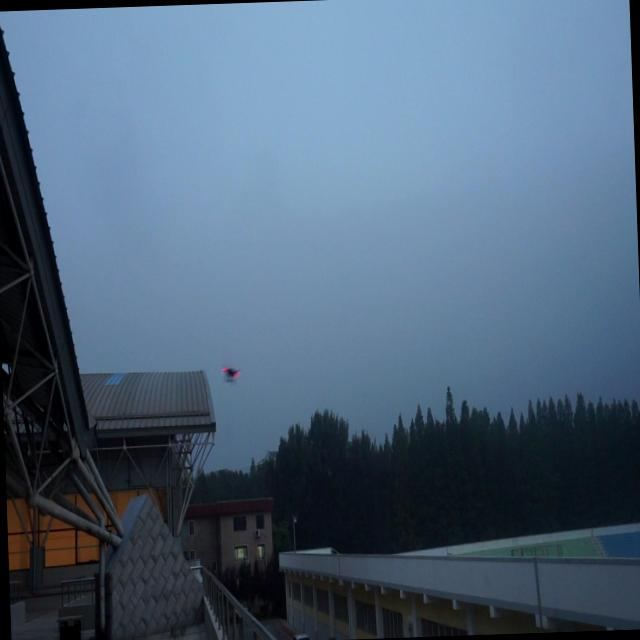drone: (218, 360, 242, 383)
